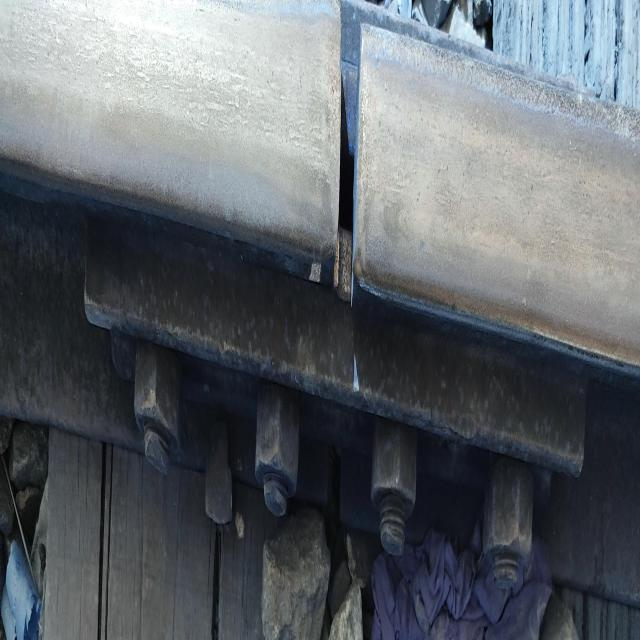railway_join_bar_defects_low: (326, 9, 370, 306)
